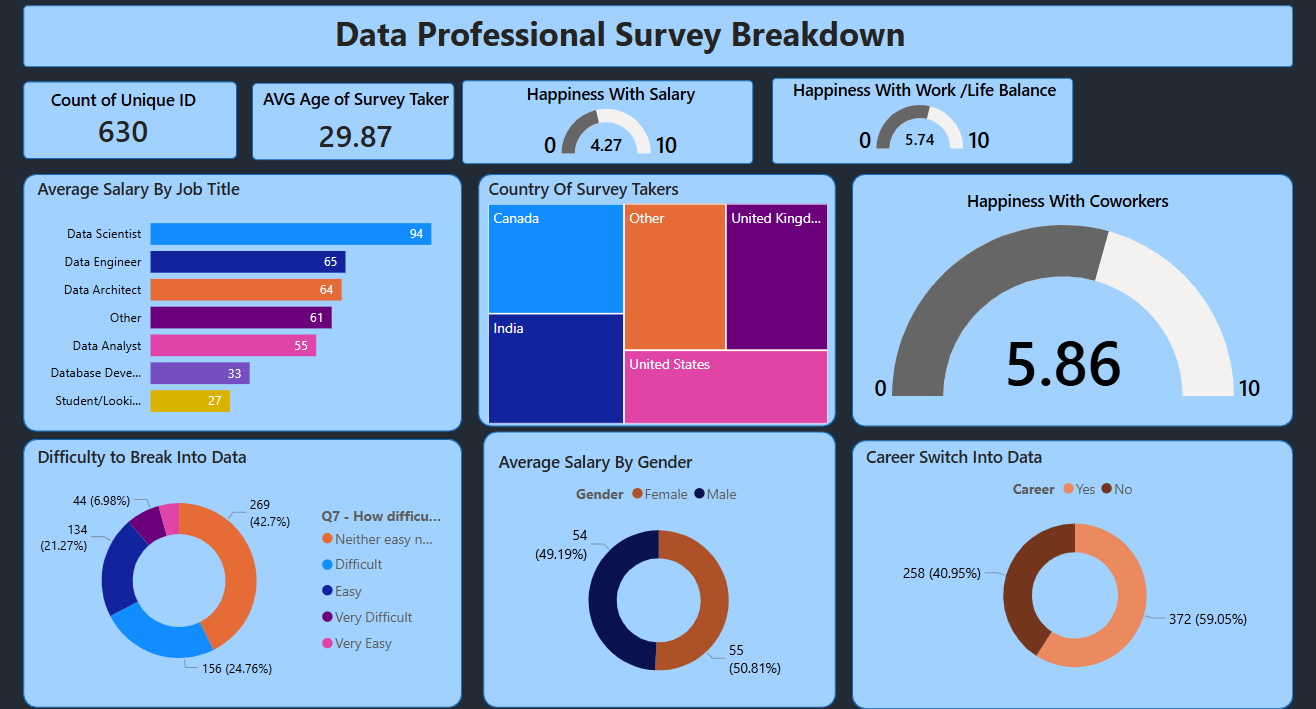

Layout of this report page (visuals, bound fields, positions):
{"tool":"powerbi","page":{"name":"Page 1","canvas":[1280,720],"ordinal":0},"visuals":[{"type":"shape","box":[828,432.1,427.3,260.3],"z":0},{"type":"shape","box":[466,174.3,346.2,244.5],"z":1000},{"type":"shape","box":[25.4,84.7,207,75.1],"z":2000},{"type":"card","title":"Count of Unique ID","fields":{"Values":["Count(Data Professional Survey.Unique ID)"]},"box":[42.4,90.8,159.8,62.9],"z":3000},{"type":"shape","box":[25.4,10.9,1229.9,60],"z":4000},{"type":"textbox","box":[322,10.9,640.4,58.1],"z":5000},{"type":"shape","box":[246.9,85.9,196.1,75.1],"z":6000},{"type":"card","title":"AVG Age of Survey Taker","fields":{"Values":["Avg(Data Professional Survey.Q10 - Current Age)"]},"box":[244.5,89.6,206,75],"z":7000},{"type":"shape","box":[25.4,174.3,424.9,249.4],"z":8000},{"type":"barChart","title":"Average Salary By Job Title","fields":{"Category":["Data Professional Survey.Q1 - Which Title Best Fits your Current Role?.1"],"Y":["Avg(Data Professional Survey.Average Salary)"],"Series":["Data Professional Survey.Q1 - Which Title Best Fits your Current Role?.1"]},"box":[33.9,176.7,409.1,244.5],"z":9000},{"type":"shape","box":[828,174.3,427.3,244.5],"z":10000},{"type":"clusteredColumnChart","title":"Favorite Programming Language By Voters","fields":{"Category":["Data Professional Survey.Q5 - Favorite Programming Language.1"],"Y":["Count(Data Professional Survey.Unique ID)"]},"box":[42.4,441.8,400.7,239.7],"z":11000},{"type":"shape","box":[25.4,430.9,424.9,260.3],"z":12000},{"type":"treemap","title":"Country Of Survey Takers","fields":{"Group":["Data Professional Survey.Q11 - Which Country do you live in?.1"],"Values":["Count(Data Professional Survey.Q11 - Which Country do you live in?.1)"]},"box":[470.9,176.7,338.9,244.5],"z":13000},{"type":"shape","box":[750.5,81.1,291.7,83.5],"z":14000},{"type":"gauge","title":"Happiness With Work /Life Balance","fields":{"Y":["Avg(Data Professional Survey.Q6 - How Happy are you in your Current Position with the following? (Work/Life Balance))"],"MinValue":["Min(Data Professional Survey.Q6 - How Happy are you in your Current Position with the following? (Work/Life Balance))1"],"MaxValue":["Max(Data Professional Survey.Q6 - How Happy are you in your Current Position with the following? (Work/Life Balance))2"]},"box":[759,81.1,278.4,78.7],"z":15000},{"type":"shape","box":[450.3,83.5,282,81.1],"z":16000},{"type":"gauge","title":"Happiness With Salary","fields":{"Y":["Avg(Data Professional Survey.Q6 - How Happy are you in your Current Position with the following? (Salary))"],"MinValue":["Min(Data Professional Survey.Q6 - How Happy are you in your Current Position with the following? (Salary))1"],"MaxValue":["Max(Data Professional Survey.Q6 - How Happy are you in your Current Position with the following? (Salary))2"]},"box":[466,84.7,256.6,79.9],"z":17000},{"type":"donutChart","title":"Difficulty to Break Into Data","fields":{"Category":["Data Professional Survey.Q7 - How difficult was it for you to break into Data?"],"Y":["CountNonNull(Data Professional Survey.Q7 - How difficult was it for you to break into Data?)"]},"box":[33.9,437,404.3,240.9],"z":18000},{"type":"shape","box":[470.9,423.7,341.4,267.5],"z":19000},{"type":"donutChart","title":"Average Salary By Gender","fields":{"Category":["Data Professional Survey.Q9 - Male/Female?"],"Y":["Avg(Data Professional Survey.Average Salary)"]},"box":[480.6,441.8,320.8,239.7],"z":20000},{"type":"gauge","title":"Happiness With Co-Workers","fields":{"Y":["Avg(Data Professional Survey.Q6 - How Happy are you in your Current Position with the following? (Coworkers))"],"MinValue":["Min(Data Professional Survey.Q6 - How Happy are you in your Current Position with the following? (Coworkers))1"],"MaxValue":["Max(Data Professional Survey.Q6 - How Happy are you in your Current Position with the following? (Coworkers))2"]},"box":[840.1,188.8,393.4,219.1],"z":21000},{"type":"donutChart","title":"Career Switch Into Data","fields":{"Category":["Data Professional Survey.Q2 - Did you switch careers into Data?"],"Y":["CountNonNull(Data Professional Survey.Q2 - Did you switch careers into Data?)"]},"box":[836.5,437,415.2,239.7],"z":22000}]}

Visuals, with their boxes in screenshot pixels (x1, y1, x2, y2):
shape: [844,428,1275,691]
shape: [480,169,828,415]
shape: [36,78,244,154]
"Count of Unique ID" card: [53,85,214,148]
shape: [36,4,1275,65]
textbox: [335,4,980,63]
shape: [259,80,457,155]
"AVG Age of Survey Taker" card: [257,83,464,159]
shape: [36,169,464,420]
"Average Salary By Job Title" barChart: [44,171,457,417]
shape: [844,169,1275,415]
"Favorite Programming Language By Voters" clusteredColumnChart: [53,438,457,680]
shape: [36,427,464,689]
"Country Of Survey Takers" treemap: [485,171,826,417]
shape: [766,75,1060,159]
"Happiness With Work /Life Balance" gauge: [775,75,1055,154]
shape: [464,77,748,159]
"Happiness With Salary" gauge: [480,78,738,159]
"Difficulty to Break Into Data" donutChart: [44,433,452,676]
shape: [485,420,829,689]
"Average Salary By Gender" donutChart: [494,438,818,680]
"Happiness With Co-Workers" gauge: [857,183,1253,404]
"Career Switch Into Data" donutChart: [853,433,1271,675]
